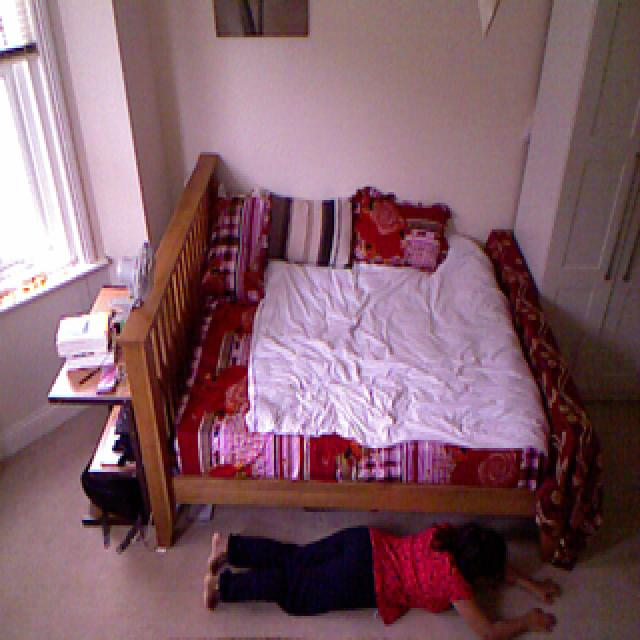lying: (192, 512, 562, 640)
